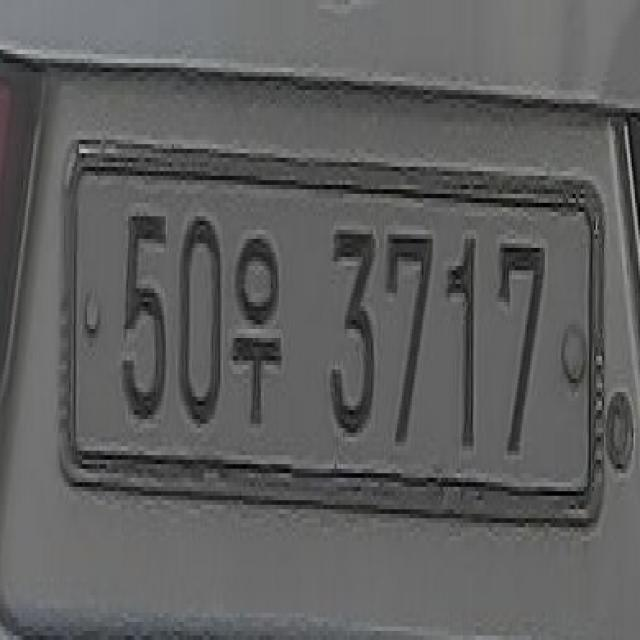0: (177, 202, 224, 445)
1: (443, 218, 482, 473)
3: (323, 198, 381, 454)
5: (117, 198, 172, 438)
7: (496, 229, 556, 473), (384, 221, 437, 450)
license_plate: (50, 146, 608, 532)
u: (228, 203, 285, 442)
